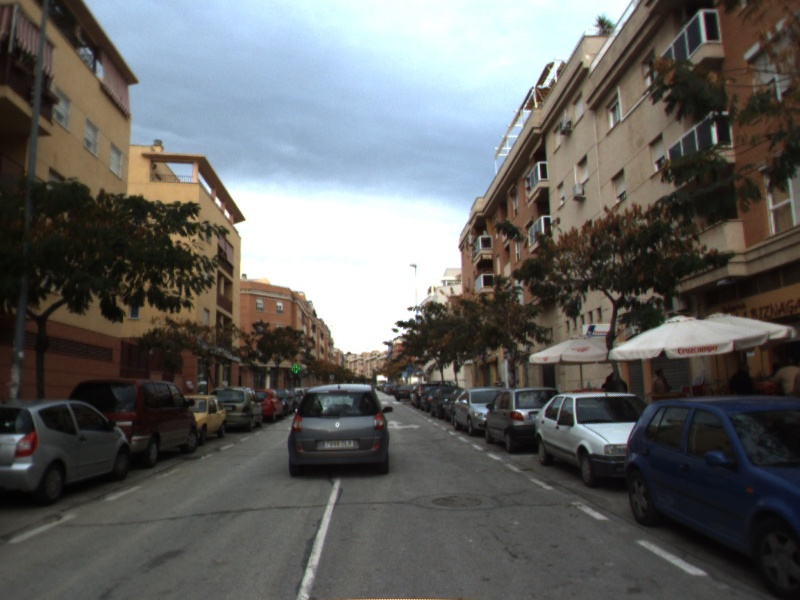STRAIGHT_RIGHT: (386, 417, 423, 431)
